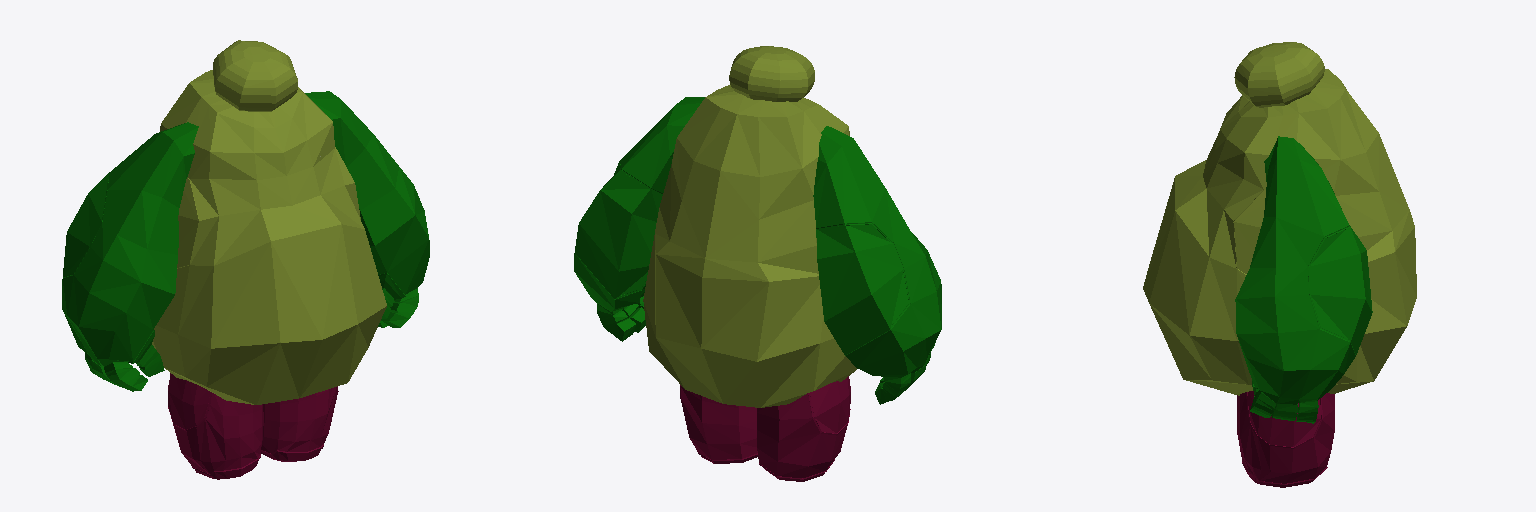
File: Bigmax_White_OBJ.obj
3 views of the same model, side by side, from view 1: azimuth 30°, elevation 25°; view 2: azimuth 150°, elevation 25°; view 3: azimuth 270°, elevation 25° (orthographic).
Parts seen in each view (by area): view 1: Chest_Belly, RightArm, LeftArm, RightLeg, Head, LeftLeg; view 2: Chest_Belly, RightArm, LeftArm, RightLeg, LeftLeg, Head; view 3: Chest_Belly, LeftArm, LeftLeg, Head.
Boxes of the visible parts, box(x1,y1,x2,y2) form: Chest_Belly: box(152, 70, 386, 404); RightArm: box(62, 122, 198, 391); LeftArm: box(305, 91, 429, 327); RightLeg: box(168, 373, 263, 479); Head: box(213, 40, 297, 111); LeftLeg: box(261, 386, 338, 461); Chest_Belly: box(643, 85, 856, 407); RightArm: box(813, 126, 941, 404); LeftArm: box(574, 97, 704, 341); RightLeg: box(757, 376, 850, 481); LeftLeg: box(680, 385, 757, 463); Head: box(729, 46, 814, 101); Chest_Belly: box(1143, 69, 1416, 395); LeftArm: box(1235, 136, 1372, 423); LeftLeg: box(1237, 391, 1334, 487); Head: box(1234, 42, 1324, 107).
Size of the model in its own units: 69.39 by 78.14 by 46.93.